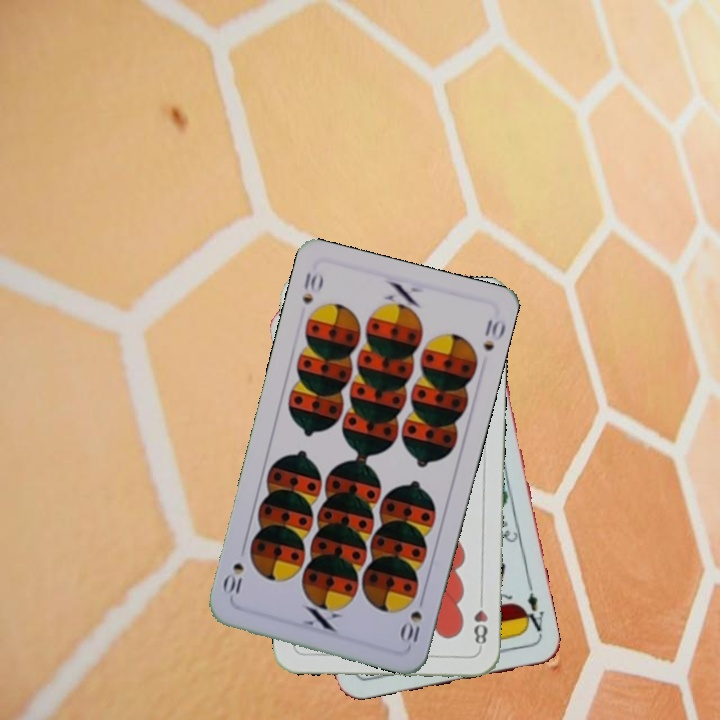EA: (518, 580, 547, 639)
H8: (470, 592, 490, 651)
S10: (397, 591, 427, 645), (298, 268, 326, 307)
